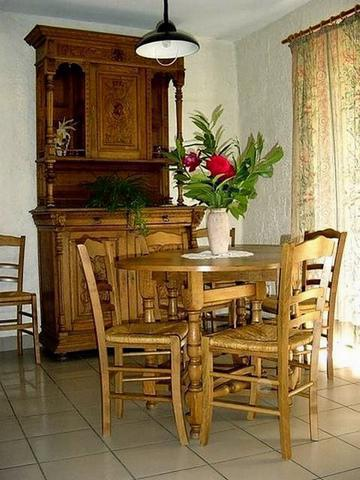Ventana: (291, 38, 359, 337)
